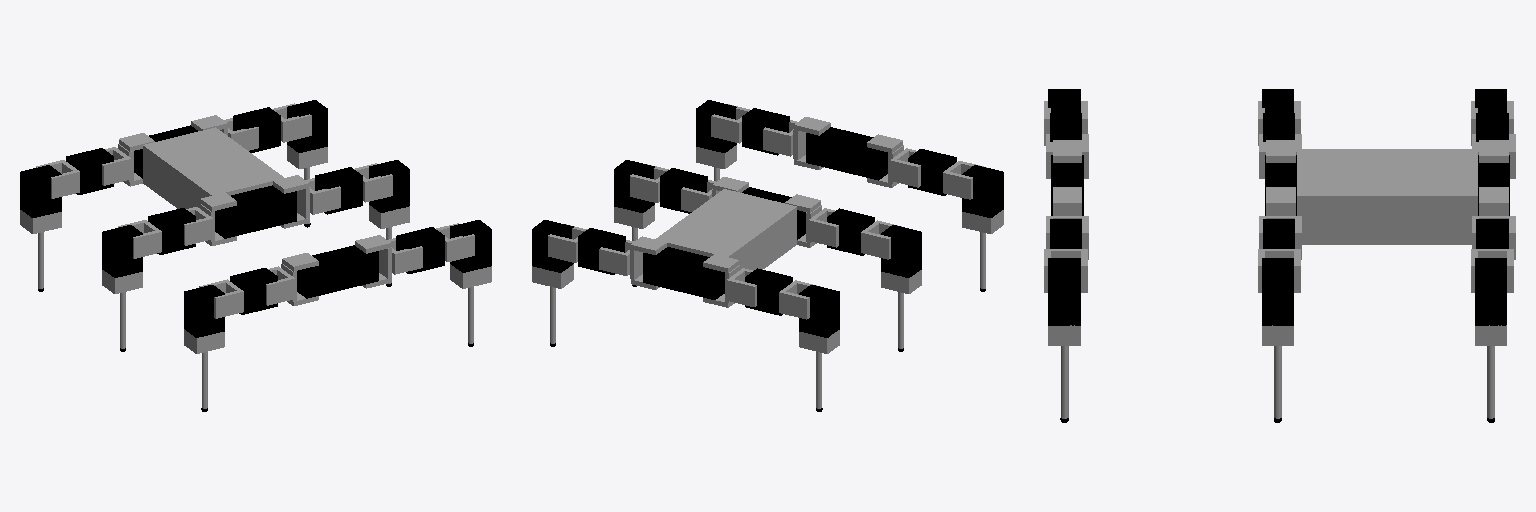
--- What the picture shows (computed from the rendered views, not written in the file) ---
Views: 3 orthographic renders of the robot side by side, from view 1: azimuth 30°, elevation 25°; view 2: azimuth 150°, elevation 25°; view 3: azimuth 270°, elevation 25°.
Model Sechsbeiner with 89 links and 88 joints (18 revolute, 70 fixed), rooted at base_link, posed all joints at 0.
Links seen in each view (by area): view 1: base_zwei_link, base_hinten_link, base_mitte_link, bein_rechts_vorne_3d_link, bein_rechts_mitte_3d_link, bein_rechts_hinten_3d_link, bein_links_hinten_3d_link, bein_links_3d_link, bein_links_hinten_2d_link, bein_links_vorne_3d_link, bein_links_2d_link, bein_links_vorne_2d_link (+21 smaller); view 2: base_zwei_link, base_hinten_link, base_vorne_link, bein_rechts_hinten_3d_link, bein_rechts_mitte_3d_link, bein_rechts_vorne_3d_link, bein_links_vorne_3d_link, bein_links_3d_link, bein_links_hinten_2d_link, bein_links_vorne_2d_link, bein_links_hinten_3d_link, bein_links_2d_link (+21 smaller); view 3: base_zwei_link, bein_links_hinten_3d_link, bein_links_3d_link, bein_links_vorne_3d_link, bein_links_vorne_2d_link, bein_links_2d_link, bein_links_hinten_2d_link, base_hinten_link, bein_rechts_vorne_2d_link, bein_rechts_mitte_2d_link, bein_rechts_hinten_2d_link, base_mitte_link (+16 smaller).
Boxes of the visible links, left/top/right/bottom form: base_zwei_link: left=143, top=127, right=283, bottom=208; base_hinten_link: left=297, top=245, right=378, bottom=298; base_mitte_link: left=215, top=185, right=296, bottom=238; bein_rechts_vorne_3d_link: left=20, top=165, right=61, bottom=217; bein_rechts_mitte_3d_link: left=102, top=225, right=142, bottom=277; bein_rechts_hinten_3d_link: left=184, top=285, right=224, bottom=337; bein_links_hinten_3d_link: left=450, top=220, right=491, bottom=272; bein_links_3d_link: left=369, top=160, right=409, bottom=212; bein_links_hinten_2d_link: left=396, top=227, right=444, bottom=273; bein_links_vorne_3d_link: left=287, top=100, right=327, bottom=152; bein_links_2d_link: left=315, top=167, right=362, bottom=214; bein_links_vorne_2d_link: left=233, top=107, right=280, bottom=152; base_zwei_link: left=655, top=189, right=796, bottom=270; base_hinten_link: left=806, top=127, right=887, bottom=180; base_vorne_link: left=643, top=247, right=724, bottom=299; bein_rechts_hinten_3d_link: left=962, top=165, right=1003, bottom=217; bein_rechts_mitte_3d_link: left=881, top=225, right=921, bottom=277; bein_rechts_vorne_3d_link: left=799, top=285, right=839, bottom=337; bein_links_vorne_3d_link: left=532, top=220, right=573, bottom=272; bein_links_3d_link: left=614, top=160, right=654, bottom=212; bein_links_hinten_2d_link: left=742, top=108, right=789, bottom=155; bein_links_vorne_2d_link: left=578, top=228, right=625, bottom=274; bein_links_hinten_3d_link: left=696, top=100, right=736, bottom=152; bein_links_2d_link: left=660, top=168, right=707, bottom=213; base_zwei_link: left=1297, top=149, right=1477, bottom=244; bein_links_hinten_3d_link: left=1048, top=258, right=1080, bottom=325; bein_links_3d_link: left=1262, top=258, right=1293, bottom=325; bein_links_vorne_3d_link: left=1475, top=258, right=1506, bottom=325; bein_links_vorne_2d_link: left=1476, top=219, right=1508, bottom=248; bein_links_2d_link: left=1263, top=219, right=1294, bottom=248; bein_links_hinten_2d_link: left=1050, top=219, right=1081, bottom=248; base_hinten_link: left=1051, top=155, right=1083, bottom=215; bein_rechts_vorne_2d_link: left=1476, top=113, right=1508, bottom=141; bein_rechts_mitte_2d_link: left=1263, top=113, right=1294, bottom=141; bein_rechts_hinten_2d_link: left=1050, top=113, right=1081, bottom=141; base_mitte_link: left=1265, top=155, right=1296, bottom=215.
Bounding box of the posed robot: 0.4122 × 0.4373 × 0.1708 m (x, y, z).
0 mesh visuals loaded from 1 distinct referenced files (none loaded); not drawn: 1 (reference not matched to a file when rendering).

robot.urdf — Sechsbeiner:
<?xml version="1.0"?>
<robot name="Sechsbeiner">
	<link name="base_link">
 		<visual>
			<geometry>
				<mesh filename="package://akrobat/stl/hexapod_link.stl"/>
			</geometry>
			<origin rpy="0 0 0" xyz="0 0 0"/>
			<material name="grey">
				<color rgba="0.67 0.67 0.67 1"/>
			</material>
		</visual>
			
	</link>

	<link name="base_mitte_link">
 		<visual>
			<geometry>
				<box size="0.101 0.030 0.04"/>
			</geometry>
			<origin rpy="0 0 0" xyz="0 0 0"/>
			<material name="black">
				<color rgba="0 0 0 1"/>
			</material>
		</visual>
	</link>

	<joint name="base_to_base_mitte" type="fixed">
		<parent link="base_link"/>

		<child link="base_mitte_link"/>
		<origin xyz="0 0.099 0"/>
	</joint>

	<link name="base_hinten_link">
 		<visual>
			<geometry>
				<box size="0.101 0.030 0.04"/>
			</geometry>
			<origin rpy="0 0 0" xyz="0 0 0"/>
			<material name="black"/>
		</visual>
	</link>

	<joint name="base_to_base_hinten" type="fixed">
		<parent link="base_link"/>
		<child link="base_hinten_link"/>
		<origin xyz="0 -0.099 0"/>
	</joint>

	<link name="base_zwei_link">
 		<visual>
			<geometry>
				<box size="0.102 0.168 0.051"/>
			</geometry>
			<origin rpy="0 0 0" xyz="0 0 0"/>
			<material name="grey">
				<color rgba="0.67 0.67 0.67 1"/>
			</material>
		</visual>
			
	</link>
	
	<joint name="base_mitte_to_base_zwei" type="fixed">
		<parent link="base_mitte_link"/>
		<child link="base_zwei_link"/>
		<origin xyz="0 0.099 0"/>
	</joint>

	<link name="base_vorne_link">
 		<visual>
			<geometry>
				<box size="0.101 0.030 0.04"/>
			</geometry>
			<origin rpy="0 0 0" xyz="0 0 0"/>
			<material name="black">
				<color rgba="0 0 0 1"/>
			</material>
		</visual>
	</link>

	<joint name="base_zwei_to_base_vorne" type="fixed">
		<parent link="base_zwei_link"/>
		<child link="base_vorne_link"/>
		<origin xyz="0 0.099 0"/>
	</joint>


<!-- BEIN LINKS MITTE -->

	<link name="bein_links_1a_link">
 		<visual>
			<geometry>
				<box size="0.0351 0.0275 0.0063"/>
			</geometry>
			<origin rpy="0 0 0" xyz="0 0 0"/>
			<material name="grey"/>
		</visual>
	</link>

	<joint name="base_mitte_to_bein_links_1a" type="revolute">
		<parent link="base_mitte_link"/>
		<child link="bein_links_1a_link"/>
		<origin xyz="0.0507505 0 0.02315" rpy="0 0 0"/>
		<axis xyz="0 0 1"/>
		<limit effort="1000.0" lower="-0.548" upper="0.548" velocity="0.5"/>
	</joint>

	
	<link name="bein_links_1b_link">
 		<visual>
			<geometry>
				<box size="0.0351 0.0275 0.0063"/>
			</geometry>
			<origin rpy="0 0 0" xyz="0 0 0"/>
			<material name="grey"/>
		</visual>
	</link>

	<link name="bein_links_1c_link">
 		<visual>
			<geometry>
				<box size="0.0063 0.0275 0.04"/>
			</geometry>
			<origin rpy="0 0 0" xyz="0 0 0"/>
			<material name="grey"/>
		</visual>
	</link>

	<joint name="bein_links_1a_to_bein_links_1c" type="fixed">
		<parent link="bein_links_1a_link"/>
		<child link="bein_links_1c_link"/>
		<origin xyz="0.01555 0 -0.0233"/>
	</joint>

	<joint name="bein_links_1b_to_bein_links_1c" type="fixed">
		<parent link="bein_links_1c_link"/>
		<child link="bein_links_1b_link"/>
		<origin xyz="-0.01555 0 -0.0233"/>
	</joint>

	<link name="bein_links_2a_link">
 		<visual>
			<geometry>
				<box size="0.0063 0.04 0.0275"/>
			</geometry>
			<origin rpy="0 0 0" xyz="0 0 0"/>
			<material name="grey"/>
		</visual>
	</link>

	<joint name="bein_links_1c_to_bein_links_2a" type="fixed">
		<parent link="bein_links_1c_link"/>
		<child link="bein_links_2a_link"/>
		<origin xyz="0.0063 0 0"/>
		</joint>

	<link name="bein_links_2b_link">
 		<visual>
			<geometry>
				<box size="0.0351 0.0063 0.0275"/>0
			</geometry>
			<origin rpy="0 0 0" xyz="0 0 0"/>
			<material name="grey"/>
		</visual>
	</link>

	<joint name="bein_links_2a_to_bein_links_2b" type="fixed">
		<parent link="bein_links_2a_link"/>
		<child link="bein_links_2b_link"/>
		<origin xyz="0.01855 0.01685 0"/>
	</joint>

	<link name="bein_links_2c_link">
 		<visual>
			<geometry>
				<box size="0.0351 0.0063 0.0275"/>0
			</geometry>
			<origin rpy="0 0 0" xyz="0 0 0"/>
			<material name="grey"/>
		</visual>
	</link>

	<joint name="bein_links_2a_to_bein_links_2c" type="fixed">
		<parent link="bein_links_2a_link"/>
		<child link="bein_links_2c_link"/>
		<origin xyz="0.01855 -0.01685 0"/>
	</joint>

	<link name="bein_links_2d_link">
 		<visual>
			<geometry>
				<box size="0.0505 0.03 0.04"/>
			</geometry>
			<origin rpy="0 0 0" xyz="0 0 0"/>
			<material name="black"/>
		</visual>
	</link>

	<joint name="bein_links_2b_to_bein_links_2d" type="revolute">
		<parent link="bein_links_2b_link"/>
		<child link="bein_links_2d_link"/>
		<origin xyz="0.0255005 -0.01815 0"/>
		<axis xyz="0 1 0"/>
		<limit effort="1000.0" lower="-0.548" upper="0.548" velocity="0.5"/>
	</joint>

	<link name="bein_links_3a_link">
 		<visual>
			<geometry>
				<box size="0.0063 0.04 0.0275"/>
			</geometry>
			<origin rpy="0 0 0" xyz="0 0 0"/>
			<material name="grey"/>
		</visual>
	</link>

	<joint name="bein_links_2d_to_bein_links_3a" type="fixed">
		<parent link="bein_links_2d_link"/>
		<child link="bein_links_3a_link"/>
		<origin xyz="0.0284 0 0"/>
	</joint>

	

	<link name="bein_links_3b_link">
 		<visual>
			<geometry>
				<box size="0.0351 0.0063 0.0275"/>0
			</geometry>
			<origin rpy="0 0 0" xyz="0 0 0"/>
			<material name="grey"/>
		</visual>
	</link>

	<joint name="bein_links_3a_to_bein_links_3b" type="fixed">
		<parent link="bein_links_3a_link"/>
		<child link="bein_links_3b_link"/>
		<origin xyz="0.01855 0.01685 0"/>
	</joint>

	<link name="bein_links_3c_link">
 		<visual>
			<geometry>
				<box size="0.0351 0.0063 0.0275"/>0
			</geometry>
			<origin rpy="0 0 0" xyz="0 0 0"/>
			<material name="grey"/>
		</visual>
	</link>

	<joint name="bein_links_3a_to_bein_links_3c" type="fixed">
		<parent link="bein_links_3a_link"/>
		<child link="bein_links_3c_link"/>
		<origin xyz="0.01855 -0.01685 0"/>
	</joint>

	<link name="bein_links_3d_link">
 		<visual>
			<geometry>
				<box size="0.04 0.03 0.0505"/>
			</geometry>
			<origin rpy="0 0 0" xyz="0 0 0"/>
			<material name="black"/>
		</visual>
	</link>

	<joint name="bein_links_3b_to_bein_links_3d" type="revolute">
		<parent link="bein_links_3b_link"/>
		<child link="bein_links_3d_link"/>
		<origin xyz="0.022505 -0.01815 -0.01"/>
		<axis xyz="0 1 0"/>
		<limit effort="1000.0" lower="-0.548" upper="0.548" velocity="0.5"/>
	</joint>

	<link name="bein_links_4a_link">
 		<visual>
			<geometry>
				<box size="0.04 0.03 0.0216"/>
			</geometry>
			<origin rpy="0 0 0" xyz="0 0 0"/>
			<material name="grey"/>
		</visual>
	</link>

	<joint name="bein_links_3d_to_bein_links_4a" type="fixed">
		<parent link="bein_links_3d_link"/>
		<child link="bein_links_4a_link"/>
		<origin xyz="0 0 -0.03578"/>
	</joint>

	<link name="bein_links_4b_link">
 		<visual>
			<geometry>
				<cylinder length="0.082" radius="0.00375"/>
			</geometry>
			<origin rpy="0 0 0" xyz="0 0 0"/>
			<material name="grey"/>
		</visual>
	</link>

	<joint name="bein_links_4a_to_bein_links_4b" type="fixed">
		<parent link="bein_links_4a_link"/>
		<child link="bein_links_4b_link"/>
		<origin xyz="0 0 -0.05153"/>
	</joint>

	<link name="bein_links_4c_link">
 		<visual>
			<geometry>
				<sphere radius="0.004"/>
			</geometry>
			<origin rpy="0 0 0" xyz="0 0 0"/>
			<material name="black"/>
		</visual>
	</link>

	<joint name="bein_links_4b_to_bein_links_4c" type="fixed">
		<parent link="bein_links_4b_link"/>
		<child link="bein_links_4c_link"/>
		<origin xyz="0 0 -0.043"/>
	</joint>





<!-- BEIN LINKS HINTEN -->




	<link name="bein_links_hinten_1a_link">
 		<visual>
			<geometry>
				<box size="0.0351 0.0275 0.0063"/>
			</geometry>
			<origin rpy="0 0 0" xyz="0 0 0"/>
			<material name="grey"/>
		</visual>
	</link>

	<joint name="base_hinten_to_bein_links_hinten_1a" type="revolute">
		<parent link="base_hinten_link"/>
		<child link="bein_links_hinten_1a_link"/>
		<origin xyz="0.0507505 0 0.02315" rpy="0 0 0"/>
		<axis xyz="0 0 1"/>
		<limit effort="1000.0" lower="-0.548" upper="0.548" velocity="0.5"/>
	</joint>

	<link name="bein_links_hinten_1b_link">
 		<visual>
			<geometry>
				<box size="0.0351 0.0275 0.0063"/>
			</geometry>
			<origin rpy="0 0 0" xyz="0 0 0"/>
			<material name="grey"/>
		</visual>
	</link>

	<link name="bein_links_hinten_1c_link">
 		<visual>
			<geometry>
				<box size="0.0063 0.0275 0.04"/>
			</geometry>
			<origin rpy="0 0 0" xyz="0 0 0"/>
			<material name="grey"/>
		</visual>
	</link>

	<joint name="bein_links_hinten_1a_to_bein_links_hinten_1c" type="fixed">
		<parent link="bein_links_hinten_1a_link"/>
		<child link="bein_links_hinten_1c_link"/>
		<origin xyz="0.01555 0 -0.0233"/>
	</joint>

	<joint name="bein_links_hinten_1b_to_bein_links_hinten_1c" type="fixed">
		<parent link="bein_links_hinten_1c_link"/>
		<child link="bein_links_hinten_1b_link"/>
		<origin xyz="-0.01555 0 -0.0233"/>
	</joint>

	<link name="bein_links_hinten_2a_link">
 		<visual>
			<geometry>
				<box size="0.0063 0.04 0.0275"/>
			</geometry>
			<origin rpy="0 0 0" xyz="0 0 0"/>
			<material name="grey"/>
		</visual>
	</link>

	<joint name="bein_links_hinten_1c_to_bein_links_hinten_2a" type="fixed">
		<parent link="bein_links_hinten_1c_link"/>
		<child link="bein_links_hinten_2a_link"/>
		<origin xyz="0.0063 0 0"/>
		</joint>

	<link name="bein_links_hinten_2b_link">
 		<visual>
			<geometry>
				<box size="0.0351 0.0063 0.0275"/>0
			</geometry>
			<origin rpy="0 0 0" xyz="0 0 0"/>
			<material name="grey"/>
		</visual>
	</link>

	<joint name="bein_links_hinten_2a_to_bein_links_hinten_2b" type="fixed">
		<parent link="bein_links_hinten_2a_link"/>
		<child link="bein_links_hinten_2b_link"/>
		<origin xyz="0.01855 0.01685 0"/>
	</joint>

	<link name="bein_links_hinten_2c_link">
 		<visual>
			<geometry>
				<box size="0.0351 0.0063 0.0275"/>0
			</geometry>
			<origin rpy="0 0 0" xyz="0 0 0"/>
			<material name="grey"/>
		</visual>
	</link>

	<joint name="bein_links_hinten_2a_to_bein_links_hinten_2c" type="fixed">
		<parent link="bein_links_hinten_2a_link"/>
		<child link="bein_links_hinten_2c_link"/>
		<origin xyz="0.01855 -0.01685 0"/>
	</joint>

	<link name="bein_links_hinten_2d_link">
 		<visual>
			<geometry>
				<box size="0.0505 0.03 0.04"/>
			</geometry>
			<origin rpy="0 0 0" xyz="0 0 0"/>
			<material name="black"/>
		</visual>
	</link>

	<joint name="bein_links_hinten_2b_to_bein_links_hinten_2d" type="revolute">
		<parent link="bein_links_hinten_2b_link"/>
		<child link="bein_links_hinten_2d_link"/>
		<origin xyz="0.0255005 -0.01815 0"/>
		<axis xyz="0 1 0"/>
		<limit effort="1000.0" lower="-0.548" upper="0.548" velocity="0.5"/>
	</joint>

	<link name="bein_links_hinten_3a_link">
 		<visual>
			<geometry>
				<box size="0.0063 0.04 0.0275"/>
			</geometry>
			<origin rpy="0 0 0" xyz="0 0 0"/>
			<material name="grey"/>
		</visual>
	</link>

	<joint name="bein_links_hinten_2d_to_bein_links_hinten_3a" type="fixed">
		<parent link="bein_links_hinten_2d_link"/>
		<child link="bein_links_hinten_3a_link"/>
		<origin xyz="0.0284 0 0"/>
	</joint>

	

	<link name="bein_links_hinten_3b_link">
 		<visual>
			<geometry>
				<box size="0.0351 0.0063 0.0275"/>0
			</geometry>
			<origin rpy="0 0 0" xyz="0 0 0"/>
			<material name="grey"/>
		</visual>
	</link>

	<joint name="bein_links_hinten_3a_to_bein_links_hinten_3b" type="fixed">
		<parent link="bein_links_hinten_3a_link"/>
		<child link="bein_links_hinten_3b_link"/>
		<origin xyz="0.01855 0.01685 0"/>
	</joint>

	<link name="bein_links_hinten_3c_link">
 		<visual>
			<geometry>
				<box size="0.0351 0.0063 0.0275"/>0
			</geometry>
			<origin rpy="0 0 0" xyz="0 0 0"/>
			<material name="grey"/>
		</visual>
	</link>

	<joint name="bein_links_hinten_3a_to_bein_links_hinten_3c" type="fixed">
		<parent link="bein_links_hinten_3a_link"/>
		<child link="bein_links_hinten_3c_link"/>
		<origin xyz="0.01855 -0.01685 0"/>
	</joint>

	<link name="bein_links_hinten_3d_link">
 		<visual>
			<geometry>
				<box size="0.04 0.03 0.0505"/>
			</geometry>
			<origin rpy="0 0 0" xyz="0 0 0"/>
			<material name="black"/>
		</visual>
	</link>

	<joint name="bein_links_hinten_3b_to_bein_links_hinten_3d" type="revolute">
		<parent link="bein_links_hinten_3b_link"/>
		<child link="bein_links_hinten_3d_link"/>
		<origin xyz="0.022505 -0.01815 -0.01"/>
		<axis xyz="0 1 0"/>
		<limit effort="1000.0" lower="-0.548" upper="0.548" velocity="0.5"/>
	</joint>

	<link name="bein_links_hinten_4a_link">
 		<visual>
			<geometry>
				<box size="0.04 0.03 0.0216"/>
			</geometry>
			<origin rpy="0 0 0" xyz="0 0 0"/>
			<material name="grey"/>
		</visual>
	</link>

	<joint name="bein_links_hinten_3d_to_bein_links_hinten_4a" type="fixed">
		<parent link="bein_links_hinten_3d_link"/>
		<child link="bein_links_hinten_4a_link"/>
		<origin xyz="0 0 -0.03578"/>
	</joint>

	<link name="bein_links_hinten_4b_link">
 		<visual>
			<geometry>
				<cylinder length="0.082" radius="0.00375"/>
			</geometry>
			<origin rpy="0 0 0" xyz="0 0 0"/>
			<material name="grey"/>
		</visual>
	</link>

	<joint name="bein_links_hinten_4a_to_bein_links_hinten_4b" type="fixed">
		<parent link="bein_links_hinten_4a_link"/>
		<child link="bein_links_hinten_4b_link"/>
		<origin xyz="0 0 -0.05153"/>
	</joint>

	<link name="bein_links_hinten_4c_link">
 		<visual>
			<geometry>
				<sphere radius="0.004"/>
			</geometry>
			<origin rpy="0 0 0" xyz="0 0 0"/>
			<material name="black"/>
		</visual>
	</link>

	<joint name="bein_links_hinten_4b_to_bein_links_hinten_4c" type="fixed">
		<parent link="bein_links_hinten_4b_link"/>
		<child link="bein_links_hinten_4c_link"/>
		<origin xyz="0 0 -0.043"/>
	</joint>



<!-- BEIN LINKS VORNE -->




	<link name="bein_links_vorne_1a_link">
 		<visual>
			<geometry>
				<box size="0.0351 0.0275 0.0063"/>
			</geometry>
			<origin rpy="0 0 0" xyz="0 0 0"/>
			<material name="grey"/>
		</visual>
	</link>

	<joint name="base_vorne_to_bein_links_vorne_1a" type="revolute">
		<parent link="base_vorne_link"/>
		<child link="bein_links_vorne_1a_link"/>
		<origin xyz="0.0507505 0 0.02315" rpy="0 0 0"/>
		<axis xyz="0 0 1"/>
		<limit effort="1000.0" lower="-0.548" upper="0.548" velocity="0.5"/>
	</joint>

	<link name="bein_links_vorne_1b_link">
 		<visual>
			<geometry>
				<box size="0.0351 0.0275 0.0063"/>
			</geometry>
			<origin rpy="0 0 0" xyz="0 0 0"/>
			<material name="grey"/>
		</visual>
	</link>

	<link name="bein_links_vorne_1c_link">
 		<visual>
			<geometry>
				<box size="0.0063 0.0275 0.04"/>
			</geometry>
			<origin rpy="0 0 0" xyz="0 0 0"/>
			<material name="grey"/>
		</visual>
	</link>

	<joint name="bein_links_vorne_1a_to_bein_links_vorne_1c" type="fixed">
		<parent link="bein_links_vorne_1a_link"/>
		<child link="bein_links_vorne_1c_link"/>
		<origin xyz="0.01555 0 -0.0233"/>
	</joint>

	<joint name="bein_links_vorne_1b_to_bein_links_vorne_1c" type="fixed">
		<parent link="bein_links_vorne_1c_link"/>
		<child link="bein_links_vorne_1b_link"/>
		<origin xyz="-0.01555 0 -0.0233"/>
	</joint>

	<link name="bein_links_vorne_2a_link">
 		<visual>
			<geometry>
				<box size="0.0063 0.04 0.0275"/>
			</geometry>
			<origin rpy="0 0 0" xyz="0 0 0"/>
			<material name="grey"/>
		</visual>
	</link>

	<joint name="bein_links_vorne_1c_to_bein_links_vorne_2a" type="fixed">
		<parent link="bein_links_vorne_1c_link"/>
		<child link="bein_links_vorne_2a_link"/>
		<origin xyz="0.0063 0 0"/>
		</joint>

	<link name="bein_links_vorne_2b_link">
 		<visual>
			<geometry>
				<box size="0.0351 0.0063 0.0275"/>0
			</geometry>
			<origin rpy="0 0 0" xyz="0 0 0"/>
			<material name="grey"/>
		</visual>
	</link>

	<joint name="bein_links_vorne_2a_to_bein_links_vorne_2b" type="fixed">
		<parent link="bein_links_vorne_2a_link"/>
		<child link="bein_links_vorne_2b_link"/>
		<origin xyz="0.01855 0.01685 0"/>
	</joint>

	<link name="bein_links_vorne_2c_link">
 		<visual>
			<geometry>
				<box size="0.0351 0.0063 0.0275"/>0
			</geometry>
			<origin rpy="0 0 0" xyz="0 0 0"/>
			<material name="grey"/>
		</visual>
	</link>

	<joint name="bein_links_vorne_2a_to_bein_links_vorne_2c" type="fixed">
		<parent link="bein_links_vorne_2a_link"/>
		<child link="bein_links_vorne_2c_link"/>
		<origin xyz="0.01855 -0.01685 0"/>
	</joint>

	<link name="bein_links_vorne_2d_link">
 		<visual>
			<geometry>
				<box size="0.0505 0.03 0.04"/>
			</geometry>
			<origin rpy="0 0 0" xyz="0 0 0"/>
			<material name="black"/>
		</visual>
	</link>

	<joint name="bein_links_vorne_2b_to_bein_links_vorne_2d" type="revolute">
		<parent link="bein_links_vorne_2b_link"/>
		<child link="bein_links_vorne_2d_link"/>
		<origin xyz="0.0255005 -0.01815 0"/>
		<axis xyz="0 1 0"/>
		<limit effort="1000.0" lower="-0.548" upper="0.548" velocity="0.5"/>
	</joint>

	<link name="bein_links_vorne_3a_link">
 		<visual>
			<geometry>
				<box size="0.0063 0.04 0.0275"/>
			</geometry>
			<origin rpy="0 0 0" xyz="0 0 0"/>
			<material name="grey"/>
		</visual>
	</link>

	<joint name="bein_links_vorne_2d_to_bein_links_vorne_3a" type="fixed">
		<parent link="bein_links_vorne_2d_link"/>
		<child link="bein_links_vorne_3a_link"/>
		<origin xyz="0.0284 0 0"/>
	</joint>

	

	<link name="bein_links_vorne_3b_link">
 		<visual>
			<geometry>
				<box size="0.0351 0.0063 0.0275"/>0
			</geometry>
			<origin rpy="0 0 0" xyz="0 0 0"/>
			<material name="grey"/>
		</visual>
	</link>

	<joint name="bein_links_vorne_3a_to_bein_links_vorne_3b" type="fixed">
		<parent link="bein_links_vorne_3a_link"/>
		<child link="bein_links_vorne_3b_link"/>
		<origin xyz="0.01855 0.01685 0"/>
	</joint>

	<link name="bein_links_vorne_3c_link">
 		<visual>
			<geometry>
				<box size="0.0351 0.0063 0.0275"/>0
			</geometry>
			<origin rpy="0 0 0" xyz="0 0 0"/>
			<material name="grey"/>
		</visual>
	</link>

	<joint name="bein_links_vorne_3a_to_bein_links_vorne_3c" type="fixed">
		<parent link="bein_links_vorne_3a_link"/>
		<child link="bein_links_vorne_3c_link"/>
		<origin xyz="0.01855 -0.01685 0"/>
	</joint>

	<link name="bein_links_vorne_3d_link">
 		<visual>
			<geometry>
				<box size="0.04 0.03 0.0505"/>
			</geometry>
			<origin rpy="0 0 0" xyz="0 0 0"/>
			<material name="black"/>
		</visual>
	</link>

	<joint name="bein_links_vorne_3b_to_bein_links_vorne_3d" type="revolute">
		<parent link="bein_links_vorne_3b_link"/>
		<child link="bein_links_vorne_3d_link"/>
		<origin xyz="0.022505 -0.01815 -0.01"/>
		<axis xyz="0 1 0"/>
		<limit effort="1000.0" lower="-0.548" upper="0.548" velocity="0.5"/>
	</joint>

	<link name="bein_links_vorne_4a_link">
 		<visual>
			<geometry>
				<box size="0.04 0.03 0.0216"/>
			</geometry>
			<origin rpy="0 0 0" xyz="0 0 0"/>
			<material name="grey"/>
		</visual>
	</link>

	<joint name="bein_links_vorne_3d_to_bein_links_vorne_4a" type="fixed">
		<parent link="bein_links_vorne_3d_link"/>
		<child link="bein_links_vorne_4a_link"/>
		<origin xyz="0 0 -0.03578"/>
	</joint>

	<link name="bein_links_vorne_4b_link">
 		<visual>
			<geometry>
				<cylinder length="0.082" radius="0.00375"/>
			</geometry>
			<origin rpy="0 0 0" xyz="0 0 0"/>
			<material name="grey"/>
		</visual>
	</link>

	<joint name="bein_links_vorne_4a_to_bein_links_vorne_4b" type="fixed">
		<parent link="bein_links_vorne_4a_link"/>
		<child link="bein_links_vorne_4b_link"/>
		<origin xyz="0 0 -0.05153"/>
	</joint>

	<link name="bein_links_vorne_4c_link">
 		<visual>
			<geometry>
				<sphere radius="0.004"/>
			</geometry>
			<origin rpy="0 0 0" xyz="0 0 0"/>
			<material name="black"/>
		</visual>
	</link>

	<joint name="bein_links_vorne_4b_to_bein_links_vorne_4c" type="fixed">
		<parent link="bein_links_vorne_4b_link"/>
		<child link="bein_links_vorne_4c_link"/>
		<origin xyz="0 0 -0.043"/>
	</joint>



<!-- BEIN RECHTS VORNE -->



	<link name="bein_rechts_vorne_1a_link">
 		<visual>
			<geometry>
				<box size="0.0351 0.0275 0.0063"/>
			</geometry>
			<origin rpy="0 0 0" xyz="0 0 0"/>
			<material name="grey"/>
		</visual>
	</link>

	<joint name="base_vorne_to_bein_rechts_vorne_1a" type="revolute">
		<parent link="base_vorne_link"/>
		<child link="bein_rechts_vorne_1a_link"/>
		<origin xyz="-0.0507505 0 0.02315" rpy="0 0 0"/>
		<axis xyz="0 0 1"/>
		<limit effort="1000.0" lower="-0.548" upper="0.548" velocity="0.5"/>
	</joint>

	<link name="bein_rechts_vorne_1b_link">
 		<visual>
			<geometry>
				<box size="0.0351 0.0275 0.0063"/>
			</geometry>
			<origin rpy="0 0 0" xyz="0 0 0"/>
			<material name="grey"/>
		</visual>
	</link>

	<link name="bein_rechts_vorne_1c_link">
 		<visual>
			<geometry>
				<box size="0.0063 0.0275 0.04"/>
			</geometry>
			<origin rpy="0 0 0" xyz="0 0 0"/>
			<material name="grey"/>
		</visual>
	</link>

	<joint name="bein_rechts_vorne_1a_to_bein_rechts_vorne_1c" type="fixed">
		<parent link="bein_rechts_vorne_1a_link"/>
		<child link="bein_rechts_vorne_1c_link"/>
		<origin xyz="-0.01555 0 -0.0233"/>
	</joint>

	<joint name="bein_rechts_vorne_1b_to_bein_rechts_vorne_1c" type="fixed">
		<parent link="bein_rechts_vorne_1c_link"/>
		<child link="bein_rechts_vorne_1b_link"/>
		<origin xyz="0.01555 0 -0.0233"/>
	</joint>

	<link name="bein_rechts_vorne_2a_link">
 		<visual>
			<geometry>
				<box size="0.0063 0.04 0.0275"/>
			</geometry>
			<origin rpy="0 0 0" xyz="0 0 0"/>
			<material name="grey"/>
		</visual>
	</link>

	<joint name="bein_rechts_vorne_1c_to_bein_rechts_vorne_2a" type="fixed">
		<parent link="bein_rechts_vorne_1c_link"/>
		<child link="bein_rechts_vorne_2a_link"/>
		<origin xyz="-0.0063 0 0"/>
		</joint>

	<link name="bein_rechts_vorne_2b_link">
 		<visual>
			<geometry>
				<box size="0.0351 0.0063 0.0275"/>0
			</geometry>
			<origin rpy="0 0 0" xyz="0 0 0"/>
			<material name="grey"/>
		</visual>
	</link>

	<joint name="bein_rechts_vorne_2a_to_bein_rechts_vorne_2b" type="fixed">
		<parent link="bein_rechts_vorne_2a_link"/>
		<child link="bein_rechts_vorne_2b_link"/>
		<origin xyz="-0.01855 0.01685 0"/>
	</joint>

	<link name="bein_rechts_vorne_2c_link">
 		<visual>
			<geometry>
				<box size="0.0351 0.0063 0.0275"/>0
			</geometry>
			<origin rpy="0 0 0" xyz="0 0 0"/>
			<material name="grey"/>
		</visual>
	</link>

	<joint name="bein_rechts_vorne_2a_to_bein_rechts_vorne_2c" type="fixed">
		<parent link="bein_rechts_vorne_2a_link"/>
		<child link="bein_rechts_vorne_2c_link"/>
		<origin xyz="-0.01855 -0.01685 0"/>
	</joint>

	<link name="bein_rechts_vorne_2d_link">
 		<visual>
			<geometry>
				<box size="0.0505 0.03 0.04"/>
			</geometry>
			<origin rpy="0 0 0" xyz="0 0 0"/>
			<material name="black"/>
		</visual>
	</link>

	<joint name="bein_rechts_vorne_2b_to_bein_rechts_vorne_2d" type="revolute">
		<parent link="bein_rechts_vorne_2b_link"/>
		<child link="bein_rechts_vorne_2d_link"/>
		<origin xyz="-0.0255005 -0.01815 0"/>
		<axis xyz="0 1 0"/>
		<limit effort="1000.0" lower="-0.548" upper="0.548" velocity="0.5"/>
	</joint>

	<link name="bein_rechts_vorne_3a_link">
 		<visual>
			<geometry>
				<box size="0.0063 0.04 0.0275"/>
			</geometry>
			<origin rpy="0 0 0" xyz="0 0 0"/>
			<material name="grey"/>
		</visual>
	</link>

	<joint name="bein_rechts_vorne_2d_to_bein_rechts_vorne_3a" type="fixed">
		<parent link="bein_rechts_vorne_2d_link"/>
		<child link="bein_rechts_vorne_3a_link"/>
		<origin xyz="-0.0284 0 0"/>
	</joint>

	<link name="bein_rechts_vorne_3b_link">
 		<visual>
			<geometry>
				<box size="0.0351 0.0063 0.0275"/>0
			</geometry>
			<origin rpy="0 0 0" xyz="0 0 0"/>
			<material name="grey"/>
		</visual>
	</link>

	<joint name="bein_rechts_vorne_3a_to_bein_rechts_vorne_3b" type="fixed">
		<parent link="bein_rechts_vorne_3a_link"/>
		<child link="bein_rechts_vorne_3b_link"/>
		<origin xyz="-0.01855 0.01685 0"/>
	</joint>

	<link name="bein_rechts_vorne_3c_link">
 		<visual>
			<geometry>
				<box size="0.0351 0.0063 0.0275"/>0
			</geometry>
			<origin rpy="0 0 0" xyz="0 0 0"/>
			<material name="grey"/>
		</visual>
	</link>

	<joint name="bein_rechts_vorne_3a_to_bein_rechts_vorne_3c" type="fixed">
		<parent link="bein_rechts_vorne_3a_link"/>
		<child link="bein_rechts_vorne_3c_link"/>
		<origin xyz="-0.01855 -0.01685 0"/>
	</joint>

	<link name="bein_rechts_vorne_3d_link">
 		<visual>
			<geometry>
				<box size="0.04 0.03 0.0505"/>
			</geometry>
			<origin rpy="0 0 0" xyz="0 0 0"/>
			<material name="black"/>
		</visual>
	</link>

	<joint name="bein_rechts_vorne_3b_to_bein_rechts_vorne_3d" type="revolute">
		<parent link="bein_rechts_vorne_3b_link"/>
		<child link="bein_rechts_vorne_3d_link"/>
		<origin xyz="-0.022505 -0.01815 -0.01"/>
		<axis xyz="0 1 0"/>
		<limit effort="1000.0" lower="-0.548" upper="0.548" velocity="0.5"/>
	</joint>

	<link name="bein_rechts_vorne_4a_link">
 		<visual>
			<geometry>
				<box size="0.04 0.03 0.0216"/>
			</geometry>
			<origin rpy="0 0 0" xyz="0 0 0"/>
			<material name="grey"/>
		</visual>
	</link>

	<joint name="bein_rechts_vorne_3d_to_bein_rechts_vorne_4a" type="fixed">
		<parent link="bein_rechts_vorne_3d_link"/>
		<child link="bein_rechts_vorne_4a_link"/>
		<origin xyz="0 0 -0.03578"/>
	</joint>

	<link name="bein_rechts_vorne_4b_link">
 		<visual>
			<geometry>
				<cylinder length="0.082" radius="0.00375"/>
			</geometry>
			<origin rpy="0 0 0" xyz="0 0 0"/>
			<material name="grey"/>
		</visual>
	</link>

	<joint name="bein_rechts_vorne_4a_to_bein_rechts_vorne_4b" type="fixed">
		<parent link="bein_rechts_vorne_4a_link"/>
		<child link="bein_rechts_vorne_4b_link"/>
		<origin xyz="0 0 -0.05153"/>
	</joint>

	<link name="bein_rechts_vorne_4c_link">
 		<visual>
			<geometry>
				<sphere radius="0.004"/>
			</geometry>
			<origin rpy="0 0 0" xyz="0 0 0"/>
			<material name="black"/>
		</visual>
	</link>

	<joint name="bein_rechts_vorne_4b_to_bein_rechts_vorne_4c" type="fixed">
		<parent link="bein_rechts_vorne_4b_link"/>
		<child link="bein_rechts_vorne_4c_link"/>
		<origin xyz="0 0 -0.043"/>
	</joint>



<!-- BEIN RECHTS MITTE -->	

	

		<link name="bein_rechts_mitte_1a_link">
 		<visual>
			<geometry>
				<box size="0.0351 0.0275 0.0063"/>
			</geometry>
			<origin rpy="0 0 0" xyz="0 0 0"/>
			<material name="grey"/>
		</visual>
	</link>

	<joint name="base_mitte_to_bein_rechts_mitte_1a" type="revolute">
		<parent link="base_mitte_link"/>
		<child link="bein_rechts_mitte_1a_link"/>
		<origin xyz="-0.0507505 0 0.02315" rpy="0 0 0"/>
		<axis xyz="0 0 1"/>
		<limit effort="1000.0" lower="-0.548" upper="0.548" velocity="0.5"/>
	</joint>

	<link name="bein_rechts_mitte_1b_link">
 		<visual>
			<geometry>
				<box size="0.0351 0.0275 0.0063"/>
			</geometry>
			<origin rpy="0 0 0" xyz="0 0 0"/>
			<material name="grey"/>
		</visual>
	</link>

	<link name="bein_rechts_mitte_1c_link">
 		<visual>
			<geometry>
				<box size="0.0063 0.0275 0.04"/>
			</geometry>
			<origin rpy="0 0 0" xyz="0 0 0"/>
			<material name="grey"/>
		</visual>
	</link>

	<joint name="bein_rechts_mitte_1a_to_bein_rechts_mitte_1c" type="fixed">
		<parent link="bein_rechts_mitte_1a_link"/>
		<child link="bein_rechts_mitte_1c_link"/>
		<origin xyz="-0.01555 0 -0.0233"/>
	</joint>

	<joint name="bein_rechts_mitte_1b_to_bein_rechts_mitte_1c" type="fixed">
		<parent link="bein_rechts_mitte_1c_link"/>
		<child link="bein_rechts_mitte_1b_link"/>
		<origin xyz="0.01555 0 -0.0233"/>
	</joint>

	<link name="bein_rechts_mitte_2a_link">
 		<visual>
			<geometry>
				<box size="0.0063 0.04 0.0275"/>
			</geometry>
			<origin rpy="0 0 0" xyz="0 0 0"/>
			<material name="grey"/>
		</visual>
	</link>

	<joint name="bein_rechts_mitte_1c_to_bein_rechts_mitte_2a" type="fixed">
		<parent link="bein_rechts_mitte_1c_link"/>
		<child link="bein_rechts_mitte_2a_link"/>
		<origin xyz="-0.0063 0 0"/>
		</joint>

	<link name="bein_rechts_mitte_2b_link">
 		<visual>
			<geometry>
				<box size="0.0351 0.0063 0.0275"/>0
			</geometry>
			<origin rpy="0 0 0" xyz="0 0 0"/>
			<material name="grey"/>
		</visual>
	</link>

	<joint name="bein_rechts_mitte_2a_to_bein_rechts_mitte_2b" type="fixed">
		<parent link="bein_rechts_mitte_2a_link"/>
		<child link="bein_rechts_mitte_2b_link"/>
		<origin xyz="-0.01855 0.01685 0"/>
	</joint>

	<link name="bein_rechts_mitte_2c_link">
 		<visual>
			<geometry>
				<box size="0.0351 0.0063 0.0275"/>0
			</geometry>
			<origin rpy="0 0 0" xyz="0 0 0"/>
			<material name="grey"/>
		</visual>
	</link>

	<joint name="bein_rechts_mitte_2a_to_bein_rechts_mitte_2c" type="fixed">
		<parent link="bein_rechts_mitte_2a_link"/>
		<child link="bein_rechts_mitte_2c_link"/>
		<origin xyz="-0.01855 -0.01685 0"/>
	</joint>

	<link name="bein_rechts_mitte_2d_link">
 		<visual>
			<geometry>
				<box size="0.0505 0.03 0.04"/>
			</geometry>
			<origin rpy="0 0 0" xyz="0 0 0"/>
			<material name="black"/>
		</visual>
	</link>

	<joint name="bein_rechts_mitte_2b_to_bein_rechts_mitte_2d" type="revolute">
		<parent link="bein_rechts_mitte_2b_link"/>
		<child link="bein_rechts_mitte_2d_link"/>
		<origin xyz="-0.0255005 -0.01815 0"/>
		<axis xyz="0 1 0"/>
		<limit effort="1000.0" lower="-0.548" upper="0.548" velocity="0.5"/>
	</joint>

	<link name="bein_rechts_mitte_3a_link">
 		<visual>
			<geometry>
				<box size="0.0063 0.04 0.0275"/>
			</geometry>
			<origin rpy="0 0 0" xyz="0 0 0"/>
			<material name="grey"/>
		</visual>
	</link>

	<joint name="bein_rechts_mitte_2d_to_bein_rechts_mitte_3a" type="fixed">
		<parent link="bein_rechts_mitte_2d_link"/>
		<child link="bein_rechts_mitte_3a_link"/>
		<origin xyz="-0.0284 0 0"/>
	</joint>

	<link name="bein_rechts_mitte_3b_link">
 		<visual>
			<geometry>
				<box size="0.0351 0.0063 0.0275"/>0
			</geometry>
			<origin rpy="0 0 0" xyz="0 0 0"/>
			<material name="grey"/>
		</visual>
	</link>

	<joint name="bein_rechts_mitte_3a_to_bein_rechts_mitte_3b" type="fixed">
		<parent link="bein_rechts_mitte_3a_link"/>
		<child link="bein_rechts_mitte_3b_link"/>
		<origin xyz="-0.01855 0.01685 0"/>
	</joint>

	<link name="bein_rechts_mitte_3c_link">
 		<visual>
			<geometry>
				<box size="0.0351 0.0063 0.0275"/>0
			</geometry>
			<origin rpy="0 0 0" xyz="0 0 0"/>
			<material name="grey"/>
		</visual>
	</link>

	<joint name="bein_rechts_mitte_3a_to_bein_rechts_mitte_3c" type="fixed">
		<parent link="bein_rechts_mitte_3a_link"/>
		<child link="bein_rechts_mitte_3c_link"/>
		<origin xyz="-0.01855 -0.01685 0"/>
	</joint>

	<link name="bein_rechts_mitte_3d_link">
 		<visual>
			<geometry>
				<box size="0.04 0.03 0.0505"/>
			</geometry>
			<origin rpy="0 0 0" xyz="0 0 0"/>
			<material name="black"/>
		</visual>
	</link>

	<joint name="bein_rechts_mitte_3b_to_bein_rechts_mitte_3d" type="revolute">
		<parent link="bein_rechts_mitte_3b_link"/>
		<child link="bein_rechts_mitte_3d_link"/>
		<origin xyz="-0.022505 -0.01815 -0.01"/>
		<axis xyz="0 1 0"/>
		<limit effort="1000.0" lower="-0.548" upper="0.548" velocity="0.5"/>
	</joint>

	<link name="bein_rechts_mitte_4a_link">
 		<visual>
			<geometry>
				<box size="0.04 0.03 0.0216"/>
			</geometry>
			<origin rpy="0 0 0" xyz="0 0 0"/>
			<material name="grey"/>
		</visual>
	</link>

	<joint name="bein_rechts_mitte_3d_to_bein_rechts_mitte_4a" type="fixed">
		<parent link="bein_rechts_mitte_3d_link"/>
		<child link="bein_rechts_mitte_4a_link"/>
		<origin xyz="0 0 -0.03578"/>
	</joint>

	<link name="bein_rechts_mitte_4b_link">
 		<visual>
			<geometry>
				<cylinder length="0.082" radius="0.00375"/>
			</geometry>
			<origin rpy="0 0 0" xyz="0 0 0"/>
			<material name="grey"/>
		</visual>
	</link>

	<joint name="bein_rechts_mitte_4a_to_bein_rechts_mitte_4b" type="fixed">
		<parent link="bein_rechts_mitte_4a_link"/>
		<child link="bein_rechts_mitte_4b_link"/>
		<origin xyz="0 0 -0.05153"/>
	</joint>

	<link name="bein_rechts_mitte_4c_link">
 		<visual>
			<geometry>
				<sphere radius="0.004"/>
			</geometry>
			<origin rpy="0 0 0" xyz="0 0 0"/>
			<material name="black"/>
		</visual>
	</link>

	<joint name="bein_rechts_mitte_4b_to_bein_rechts_mitte_4c" type="fixed">
		<parent link="bein_rechts_mitte_4b_link"/>
		<child link="bein_rechts_mitte_4c_link"/>
		<origin xyz="0 0 -0.043"/>
	</joint>

<!-- BEIN RECHTS HINTEN -->

		<link name="bein_rechts_hinten_1a_link">
 		<visual>
			<geometry>
				<box size="0.0351 0.0275 0.0063"/>
			</geometry>
			<origin rpy="0 0 0" xyz="0 0 0"/>
			<material name="grey"/>
		</visual>
	</link>

	<joint name="base_hinten_to_bein_rechts_hinten_1a" type="revolute">
		<parent link="base_hinten_link"/>
		<child link="bein_rechts_hinten_1a_link"/>
		<origin xyz="-0.0507505 0 0.02315" rpy="0 0 0"/>
		<axis xyz="0 0 1"/>
		<limit effort="1000.0" lower="-0.548" upper="0.548" velocity="0.5"/>
	</joint>

	<link name="bein_rechts_hinten_1b_link">
 		<visual>
			<geometry>
				<box size="0.0351 0.0275 0.0063"/>
			</geometry>
			<origin rpy="0 0 0" xyz="0 0 0"/>
			<material name="grey"/>
		</visual>
	</link>

	<link name="bein_rechts_hinten_1c_link">
 		<visual>
			<geometry>
				<box size="0.0063 0.0275 0.04"/>
			</geometry>
			<origin rpy="0 0 0" xyz="0 0 0"/>
			<material name="grey"/>
		</visual>
	</link>

	<joint name="bein_rechts_hinten_1a_to_bein_rechts_hinten_1c" type="fixed">
		<parent link="bein_rechts_hinten_1a_link"/>
		<child link="bein_rechts_hinten_1c_link"/>
		<origin xyz="-0.01555 0 -0.0233"/>
	</joint>

	<joint name="bein_rechts_hinten_1b_to_bein_rechts_hinten_1c" type="fixed">
		<parent link="bein_rechts_hinten_1c_link"/>
		<child link="bein_rechts_hinten_1b_link"/>
		<origin xyz="0.01555 0 -0.0233"/>
	</joint>

	<link name="bein_rechts_hinten_2a_link">
 		<visual>
			<geometry>
				<box size="0.0063 0.04 0.0275"/>
			</geometry>
			<origin rpy="0 0 0" xyz="0 0 0"/>
			<material name="grey"/>
		</visual>
	</link>

	<joint name="bein_rechts_hinten_1c_to_bein_rechts_hinten_2a" type="fixed">
		<parent link="bein_rechts_hinten_1c_link"/>
		<child link="bein_rechts_hinten_2a_link"/>
		<origin xyz="-0.0063 0 0"/>
		</joint>

	<link name="bein_rechts_hinten_2b_link">
 		<visual>
			<geometry>
				<box size="0.0351 0.0063 0.0275"/>0
			</geometry>
			<origin rpy="0 0 0" xyz="0 0 0"/>
			<material name="grey"/>
		</visual>
	</link>

	<joint name="bein_rechts_hinten_2a_to_bein_rechts_hinten_2b" type="fixed">
		<parent link="bein_rechts_hinten_2a_link"/>
		<child link="bein_rechts_hinten_2b_link"/>
		<origin xyz="-0.01855 0.01685 0"/>
	</joint>

	<link name="bein_rechts_hinten_2c_link">
 		<visual>
			<geometry>
				<box size="0.0351 0.0063 0.0275"/>0
			</geometry>
			<origin rpy="0 0 0" xyz="0 0 0"/>
			<material name="grey"/>
		</visual>
	</link>

	<joint name="bein_rechts_hinten_2a_to_bein_rechts_hinten_2c" type="fixed">
		<parent link="bein_rechts_hinten_2a_link"/>
		<child link="bein_rechts_hinten_2c_link"/>
		<origin xyz="-0.01855 -0.01685 0"/>
	</joint>

	<link name="bein_rechts_hinten_2d_link">
 		<visual>
			<geometry>
				<box size="0.0505 0.03 0.04"/>
			</geometry>
			<origin rpy="0 0 0" xyz="0 0 0"/>
			<material name="black"/>
		</visual>
	</link>

	<joint name="bein_rechts_hinten_2b_to_bein_rechts_hinten_2d" type="revolute">
		<parent link="bein_rechts_hinten_2b_link"/>
		<child link="bein_rechts_hinten_2d_link"/>
		<origin xyz="-0.0255005 -0.01815 0"/>
		<axis xyz="0 1 0"/>
		<limit effort="1000.0" lower="-0.548" upper="0.548" velocity="0.5"/>
	</joint>

	<link name="bein_rechts_hinten_3a_link">
 		<visual>
			<geometry>
				<box size="0.0063 0.04 0.0275"/>
			</geometry>
			<origin rpy="0 0 0" xyz="0 0 0"/>
			<material name="grey"/>
		</visual>
	</link>

	<joint name="bein_rechts_hinten_2d_to_bein_rechts_hinten_3a" type="fixed">
		<parent link="bein_rechts_hinten_2d_link"/>
		<child link="bein_rechts_hinten_3a_link"/>
		<origin xyz="-0.0284 0 0"/>
	</joint>

	

	<link name="bein_rechts_hinten_3b_link">
 		<visual>
			<geometry>
				<box size="0.0351 0.0063 0.0275"/>0
			</geometry>
			<origin rpy="0 0 0" xyz="0 0 0"/>
			<material name="grey"/>
		</visual>
	</link>

	<joint name="bein_rechts_hinten_3a_to_bein_rechts_hinten_3b" type="fixed">
		<parent link="bein_rechts_hinten_3a_link"/>
		<child link="bein_rechts_hinten_3b_link"/>
		<origin xyz="-0.01855 0.01685 0"/>
	</joint>

	<link name="bein_rechts_hinten_3c_link">
 		<visual>
			<geometry>
				<box size="0.0351 0.0063 0.0275"/>0
			</geometry>
			<origin rpy="0 0 0" xyz="0 0 0"/>
			<material name="grey"/>
		</visual>
	</link>

	<joint name="bein_rechts_hinten_3a_to_bein_rechts_hinten_3c" type="fixed">
		<parent link="bein_rechts_hinten_3a_link"/>
		<child link="bein_rechts_hinten_3c_link"/>
		<origin xyz="-0.01855 -0.01685 0"/>
	</joint>

	<link name="bein_rechts_hinten_3d_link">
 		<visual>
			<geometry>
				<box size="0.04 0.03 0.0505"/>
			</geometry>
			<origin rpy="0 0 0" xyz="0 0 0"/>
			<material name="black"/>
		</visual>
	</link>

	<joint name="bein_rechts_hinten_3b_to_bein_rechts_hinten_3d" type="revolute">
		<parent link="bein_rechts_hinten_3b_link"/>
		<child link="bein_rechts_hinten_3d_link"/>
		<origin xyz="-0.022505 -0.01815 -0.01"/>
		<axis xyz="0 1 0"/>
		<limit effort="1000.0" lower="-0.548" upper="0.548" velocity="0.5"/>
	</joint>

	<link name="bein_rechts_hinten_4a_link">
 		<visual>
			<geometry>
				<box size="0.04 0.03 0.0216"/>
			</geometry>
			<origin rpy="0 0 0" xyz="0 0 0"/>
			<material name="grey"/>
		</visual>
	</link>

	<joint name="bein_rechts_hinten_3d_to_bein_rechts_hinten_4a" type="fixed">
		<parent link="bein_rechts_hinten_3d_link"/>
		<child link="bein_rechts_hinten_4a_link"/>
		<origin xyz="0 0 -0.03578"/>
	</joint>

	<link name="bein_rechts_hinten_4b_link">
 		<visual>
			<geometry>
				<cylinder length="0.082" radius="0.00375"/>
			</geometry>
			<origin rpy="0 0 0" xyz="0 0 0"/>
			<material name="grey"/>
		</visual>
	</link>

	<joint name="bein_rechts_hinten_4a_to_bein_rechts_hinten_4b" type="fixed">
		<parent link="bein_rechts_hinten_4a_link"/>
		<child link="bein_rechts_hinten_4b_link"/>
		<origin xyz="0 0 -0.05153"/>
	</joint>

	<link name="bein_rechts_hinten_4c_link">
 		<visual>
			<geometry>
				<sphere radius="0.004"/>
			</geometry>
			<origin rpy="0 0 0" xyz="0 0 0"/>
			<material name="black"/>
		</visual>
	</link>

	<joint name="bein_rechts_hinten_4b_to_bein_rechts_hinten_4c" type="fixed">
		<parent link="bein_rechts_hinten_4b_link"/>
		<child link="bein_rechts_hinten_4c_link"/>
		<origin xyz="0 0 -0.043"/>
	</joint>







	

</robot>
